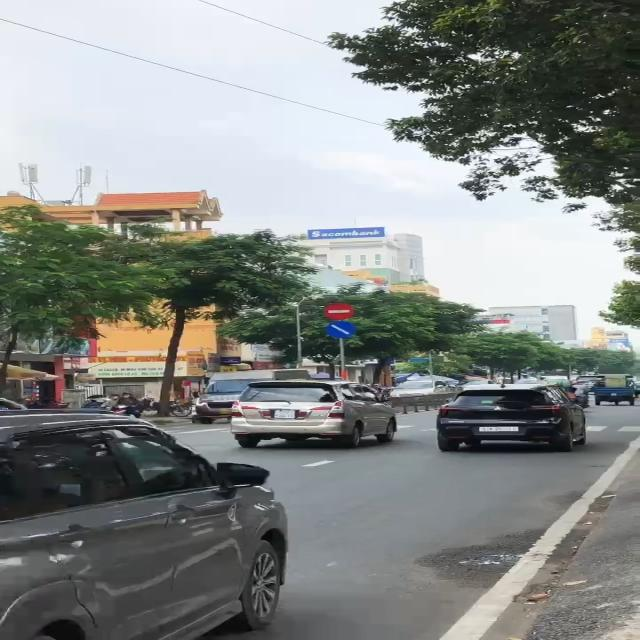Bien bao cam di nguoc chieu: (321, 302, 356, 321)
Bien bao huong phai di vong chuong ngai vat: (324, 322, 359, 341)
